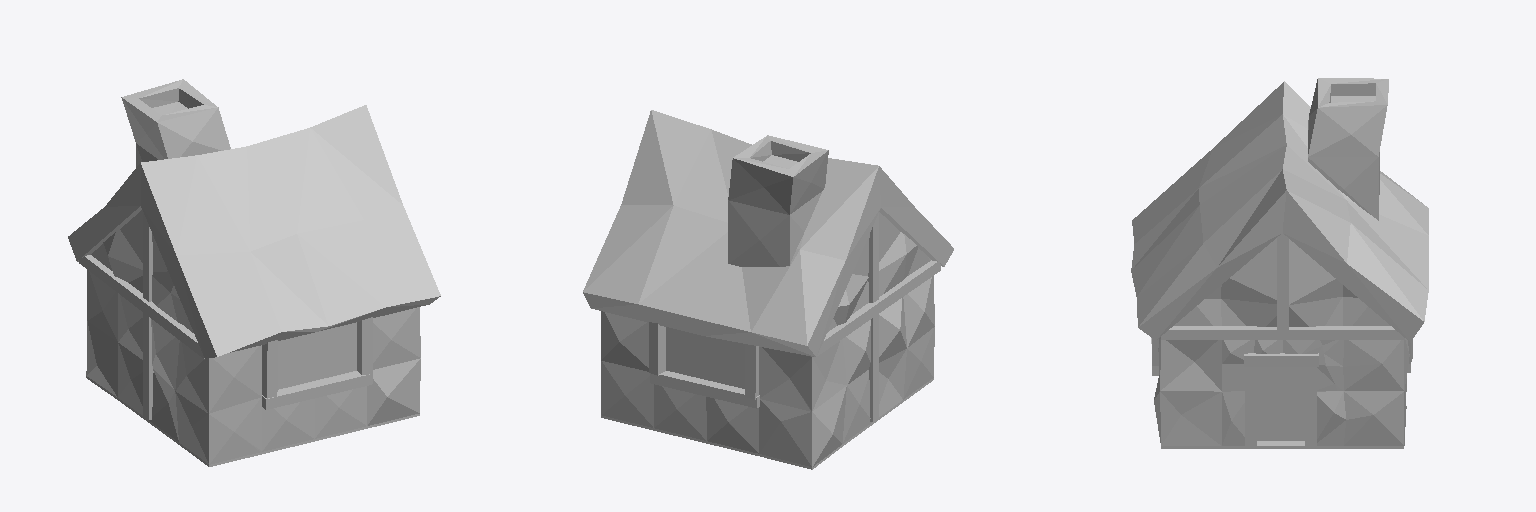
File: settlement.obj
The picture shows the model from 3 angles: view 1: azimuth 30°, elevation 25°; view 2: azimuth 150°, elevation 25°; view 3: azimuth 270°, elevation 25°; orthographic projection.
Visible parts, largest first — view 1: copy_Cube.005; view 2: copy_Cube.005; view 3: copy_Cube.005.
Boxes of the visible parts, <box> form: copy_Cube.005: <box>68,79,440,466</box>; copy_Cube.005: <box>583,110,953,469</box>; copy_Cube.005: <box>1131,78,1428,448</box>.
Bounding box in the file's own units: 0.5507 × 0.6434 × 0.6115.